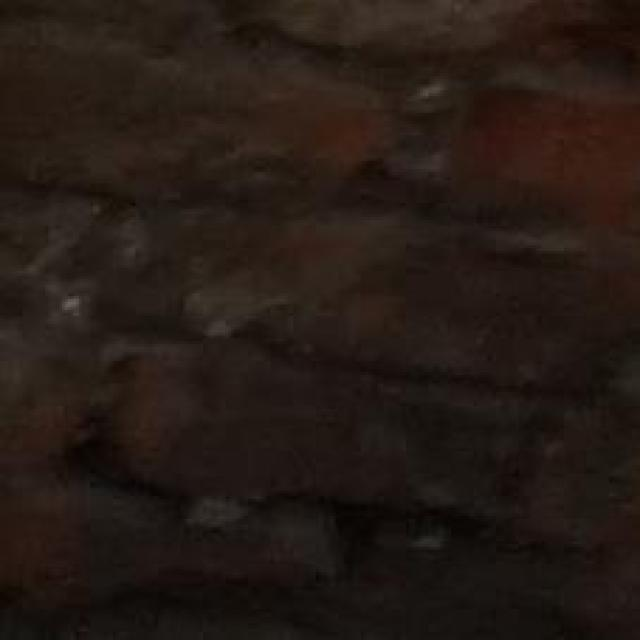Crack: (67, 13, 600, 491)
